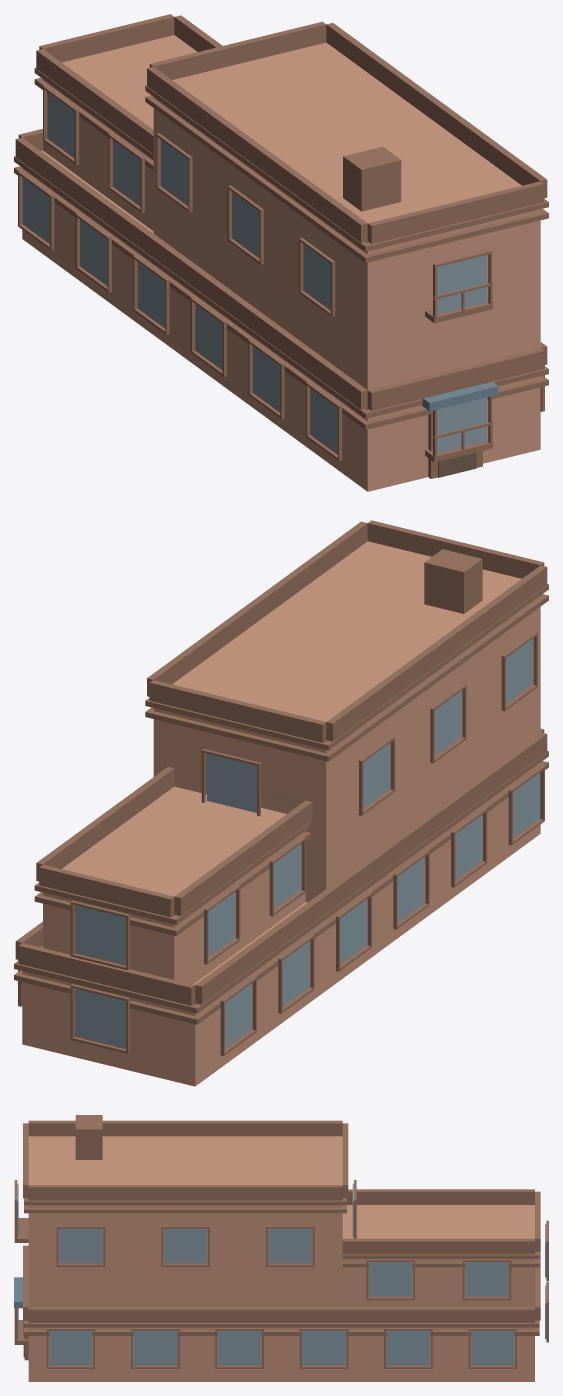
The model's file is residential_1x3_court.glb.
3 views of the same model, one above another, from view 1: azimuth 30°, elevation 25°; view 2: azimuth 150°, elevation 25°; view 3: azimuth 270°, elevation 25° (orthographic). The views are drawn at different scales.
Parts seen in each view (by area): view 1: residential_1x3_court_0; view 2: residential_1x3_court_0; view 3: residential_1x3_court_0.
Boxes of the visible parts, box(x1,y1,x2,y2) form: residential_1x3_court_0: box(14, 14, 548, 491); residential_1x3_court_0: box(14, 520, 548, 1086); residential_1x3_court_0: box(14, 1115, 548, 1381).
Size of the model in its own units: 7.74 by 10.5 by 23.77.
